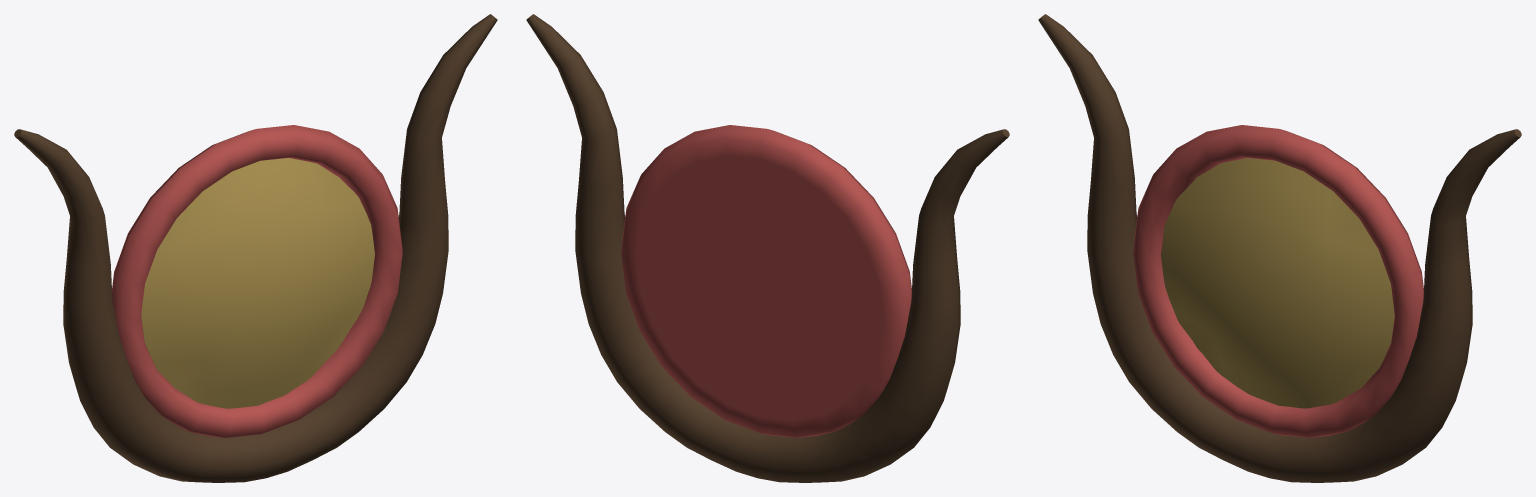
The model's file is Mirror_low.fbx.
3 views of the same model, side by side, from view 1: azimuth 30°, elevation 25°; view 2: azimuth 150°, elevation 25°; view 3: azimuth 330°, elevation 25° (orthographic).
Parts seen in each view (by area): view 1: Mirror_Sundisk_low; view 2: Mirror_Sundisk_low; view 3: Mirror_Sundisk_low.
Boxes of the visible parts, x1=… form: Mirror_Sundisk_low: x1=14, y1=14, x2=497, y2=482; Mirror_Sundisk_low: x1=526, y1=14, x2=1009, y2=482; Mirror_Sundisk_low: x1=1038, y1=14, x2=1521, y2=482.
Bounding box in the file's own units: 0.9773 × 0.7874 × 0.1152.
